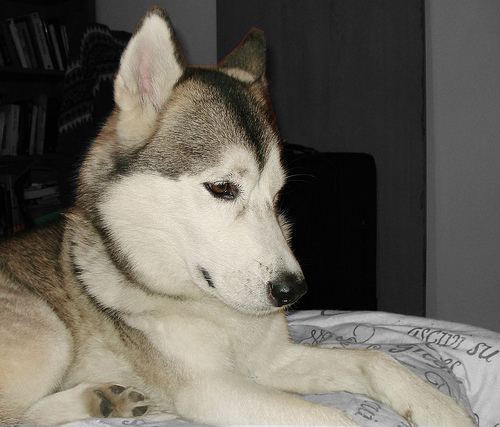dog: (1, 12, 476, 425)
